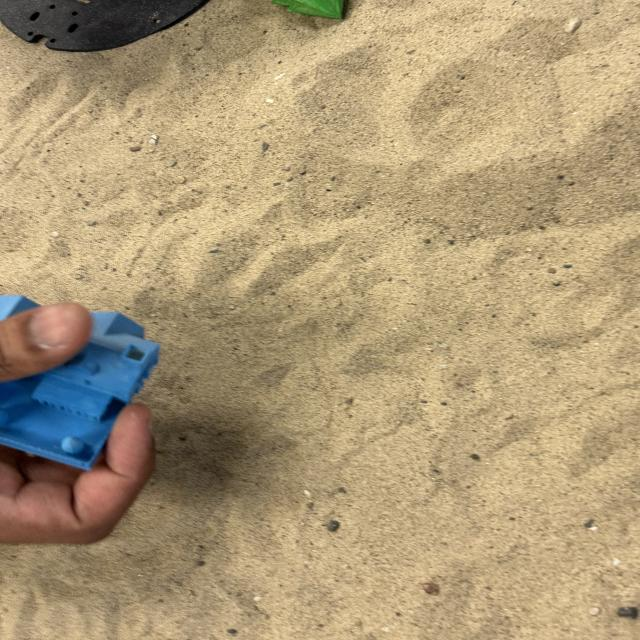house: (0, 294, 161, 471)
